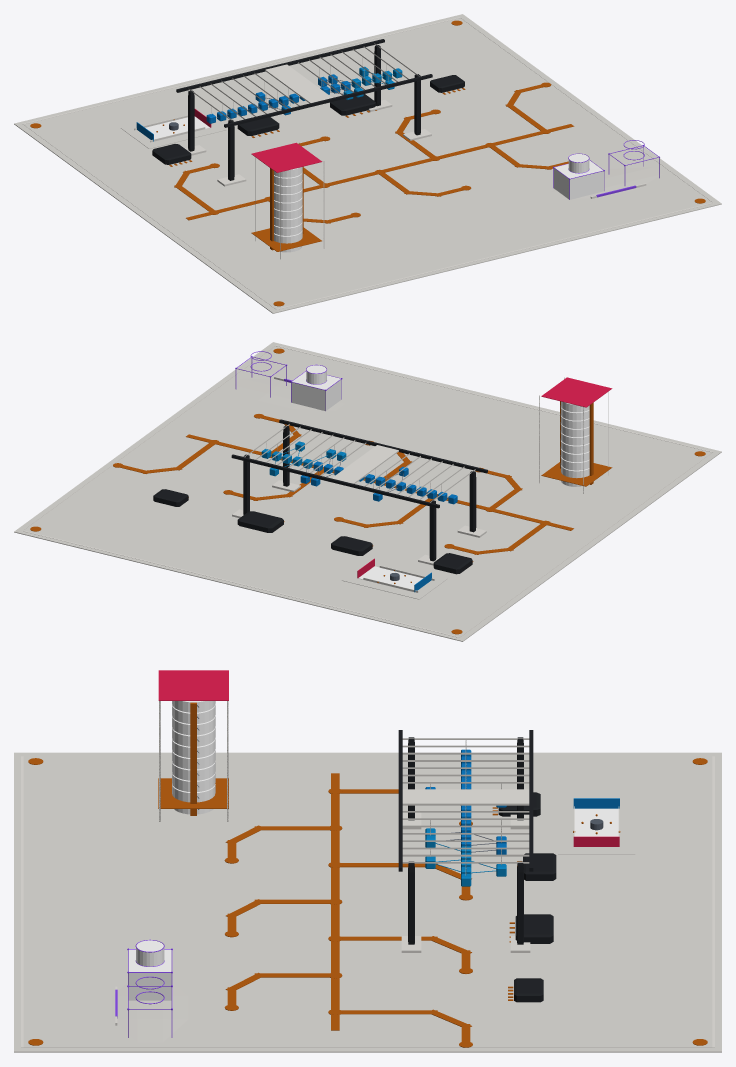
Rendered from fabrication.glb.
3 views of the same model, one above another, from view 1: azimuth 30°, elevation 25°; view 2: azimuth 150°, elevation 25°; view 3: azimuth 270°, elevation 25° (orthographic). The views are drawn at different scales.
Bounding box in the file's own units: 130 × 24.78 × 130.
